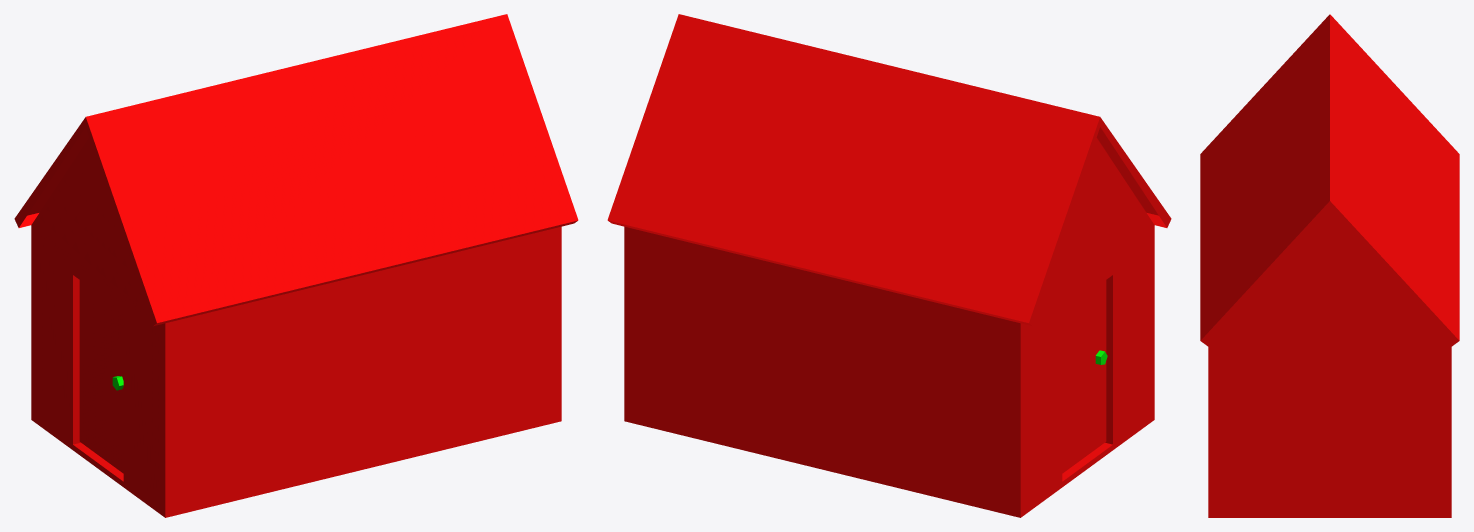
The model's file is house-00.FBX.
The picture shows the model from 3 angles, left to right: view 1: azimuth 30°, elevation 25°; view 2: azimuth 150°, elevation 25°; view 3: azimuth 270°, elevation 25°; orthographic projection. The views are drawn at different scales.
Parts seen in each view (by area): view 1: HouseBase, HouseRoof, HouseDoor; view 2: HouseBase, HouseRoof, HouseDoor; view 3: HouseBase, HouseRoof.
Part boxes in pixels (left/top/right/bottom): HouseBase: left=31, top=138, right=561, bottom=517; HouseRoof: left=14, top=14, right=578, bottom=326; HouseDoor: left=79, top=280, right=123, bottom=473; HouseBase: left=624, top=138, right=1154, bottom=517; HouseRoof: left=607, top=14, right=1171, bottom=326; HouseDoor: left=1062, top=280, right=1107, bottom=473; HouseBase: left=1208, top=210, right=1451, bottom=517; HouseRoof: left=1200, top=14, right=1459, bottom=346.
Bounding box in the file's own units: 30.02 × 24.17 × 17.6.
